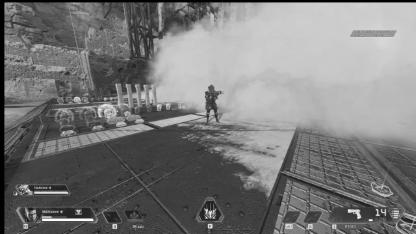Target: (204, 83, 220, 124)
